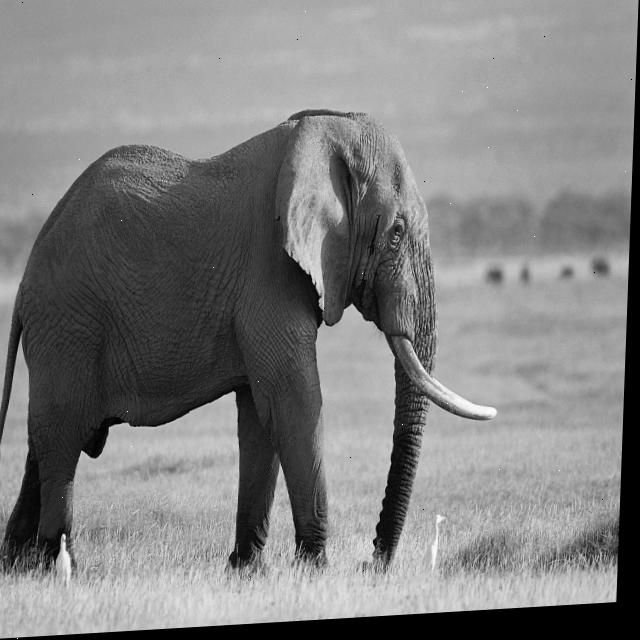Elephant: (0, 96, 509, 601)
